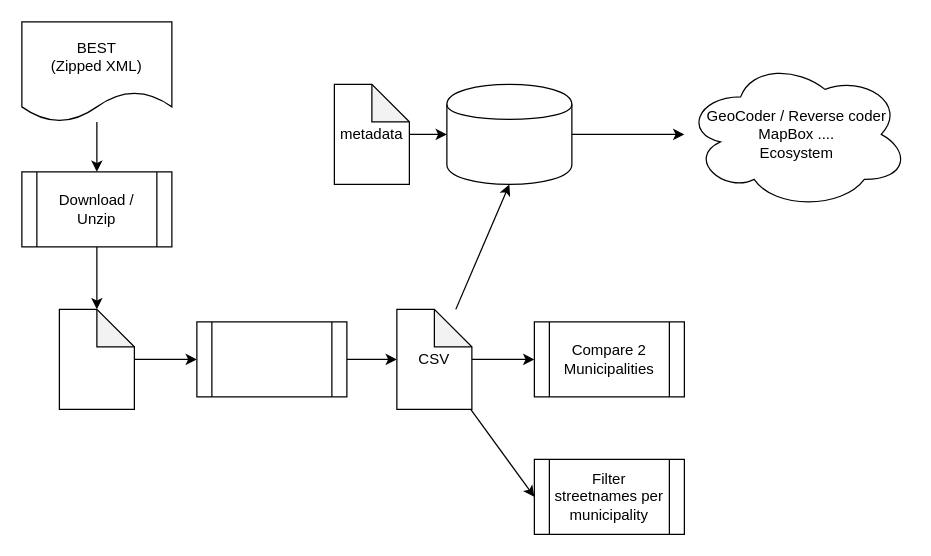
This 931x556 diagram has some shape labels left out. Here are the shapes that lost their labels. From the top down, the centre of each, then its label:
At point (509, 133): "OpenAddresses".
At point (96, 358): "XML".
At point (271, 359): "Converter".
